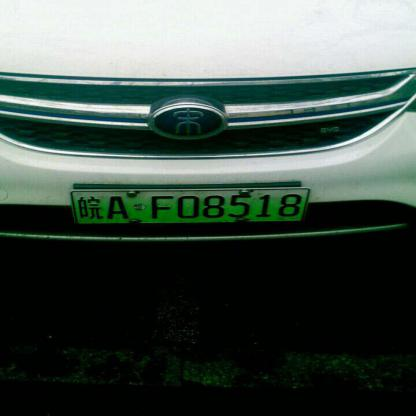lp: (73, 189, 308, 223)
